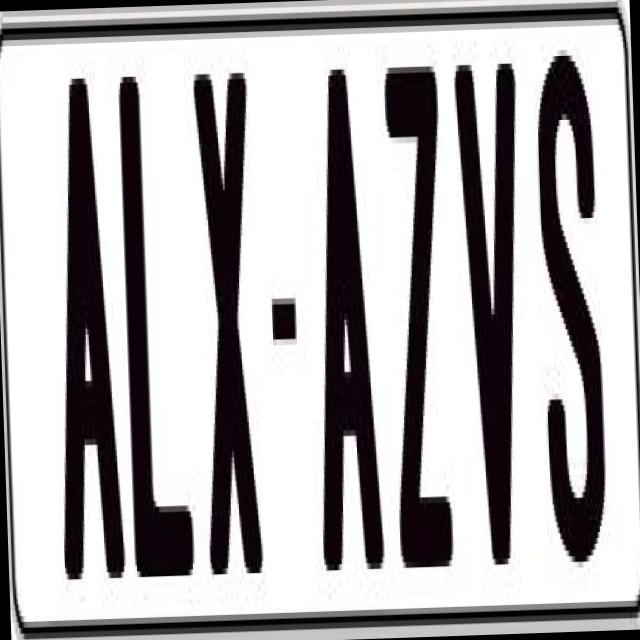A: (302, 62, 384, 570), (46, 71, 126, 591)
L: (114, 57, 193, 589)
S: (534, 48, 612, 591)
V: (453, 62, 535, 600)
X: (191, 60, 267, 574)
Z: (383, 65, 454, 585)
